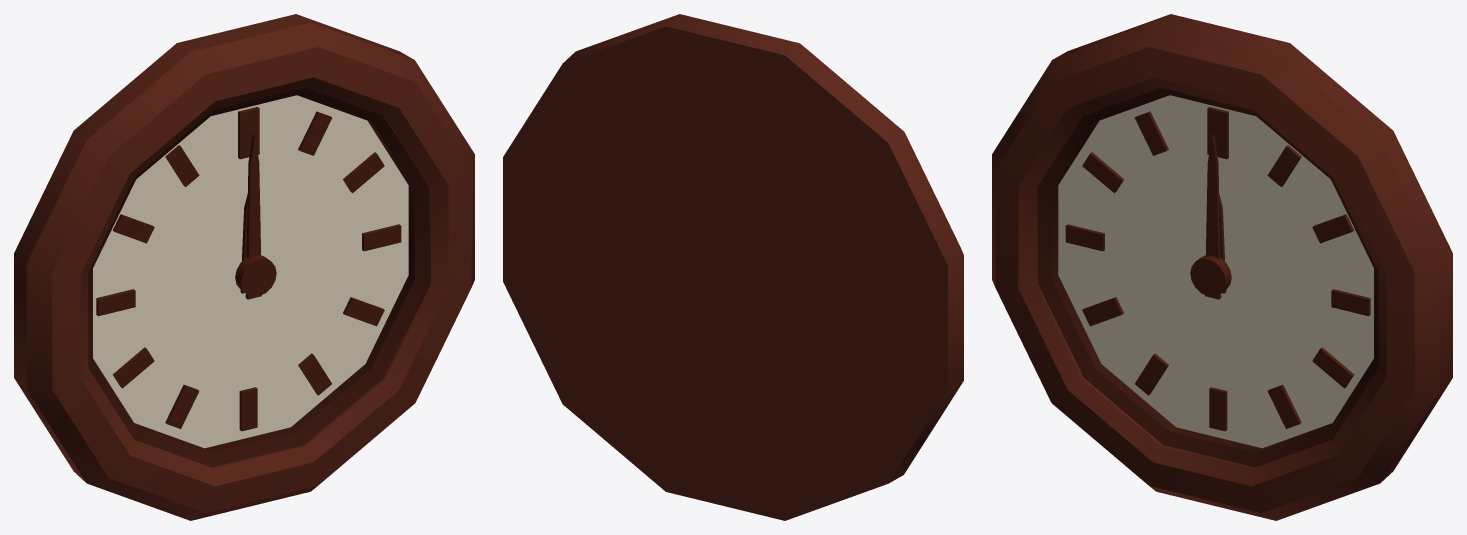
Rendered from FacetClock.glb.
3 views of the same model, side by side, from view 1: azimuth 30°, elevation 25°; view 2: azimuth 150°, elevation 25°; view 3: azimuth 330°, elevation 25° (orthographic).
Parts seen in each view (by area): view 1: FacetClock_Body, FacetClock_Face, FacetClock_Rim, FacetClock_Ticks, FacetClock_MinuteHand, FacetClock_Cap; view 2: FacetClock_Body; view 3: FacetClock_Body, FacetClock_Face, FacetClock_Rim, FacetClock_Ticks, FacetClock_MinuteHand, FacetClock_Cap.
Part boxes in pixels (x1,y1,x2,y2): FacetClock_Body: (14,14,474,520); FacetClock_Face: (93,95,408,448); FacetClock_Rim: (88,88,429,467); FacetClock_Ticks: (96,107,401,431); FacetClock_MinuteHand: (245,134,261,299); FacetClock_Cap: (235,255,276,296); FacetClock_Body: (503,14,963,520); FacetClock_Body: (992,14,1452,520); FacetClock_Face: (1058,95,1373,448); FacetClock_Rim: (1037,88,1378,467); FacetClock_Ticks: (1065,107,1370,431); FacetClock_MinuteHand: (1205,134,1221,299); FacetClock_Cap: (1190,255,1231,296).
Size of the model in its own units: 0.5061 by 0.5061 by 0.055.
